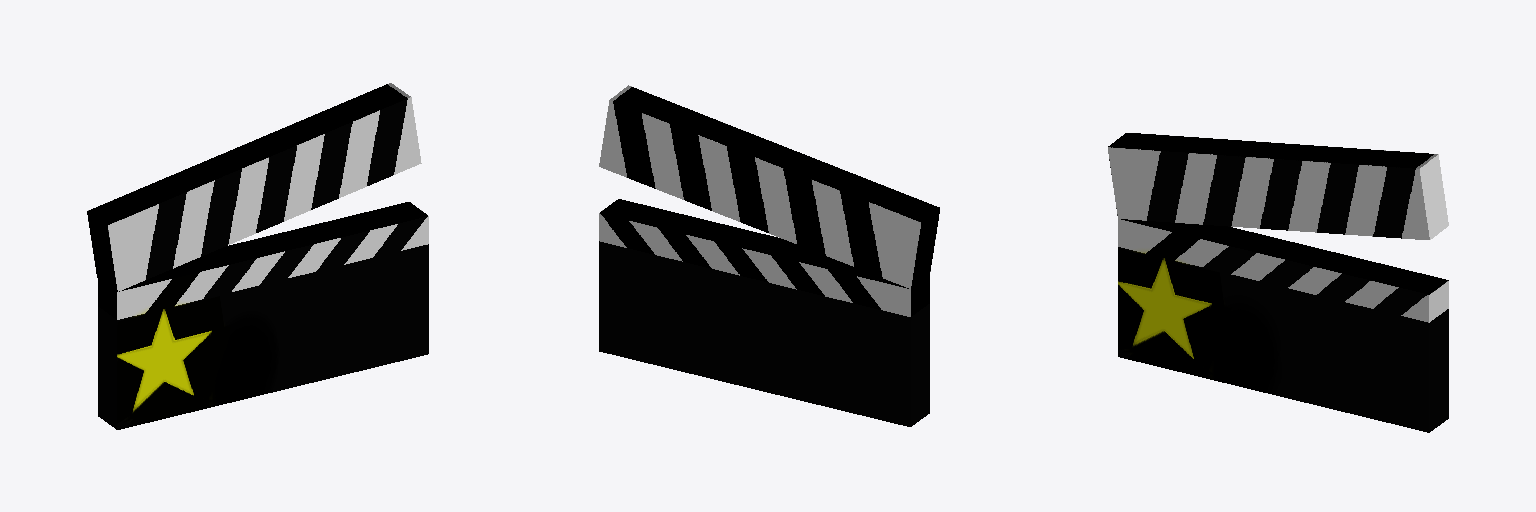
3 renders of one model, left to right at view 1: azimuth 30°, elevation 25°; view 2: azimuth 150°, elevation 25°; view 3: azimuth 330°, elevation 25°, orthographic.
Visible parts, largest first — view 1: Cube.002_Cube, Cube.003_Cube.002; view 2: Cube.002_Cube, Cube.003_Cube.002; view 3: Cube.002_Cube, Cube.003_Cube.002.
Part boxes in pixels (bbox=[...]): Cube.002_Cube: bbox=[98, 202, 428, 429]; Cube.003_Cube.002: bbox=[87, 83, 421, 291]; Cube.002_Cube: bbox=[599, 199, 929, 426]; Cube.003_Cube.002: bbox=[599, 85, 939, 288]; Cube.002_Cube: bbox=[1118, 219, 1448, 432]; Cube.003_Cube.002: bbox=[1108, 133, 1448, 239].
Size of the model in its own units: 2.23 by 1.7 by 0.2885.
1 materials, 1 textured.